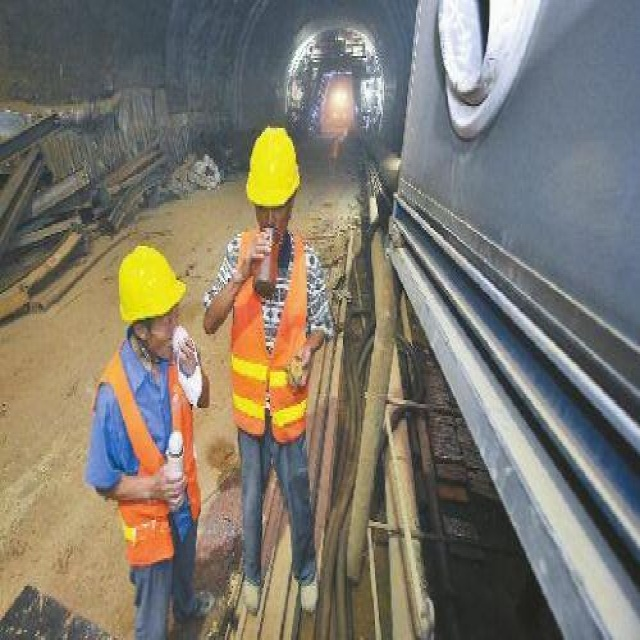Helmet: (103, 229, 194, 377), (235, 117, 311, 266)
Reflective vest: (95, 337, 209, 581), (220, 222, 318, 447)
